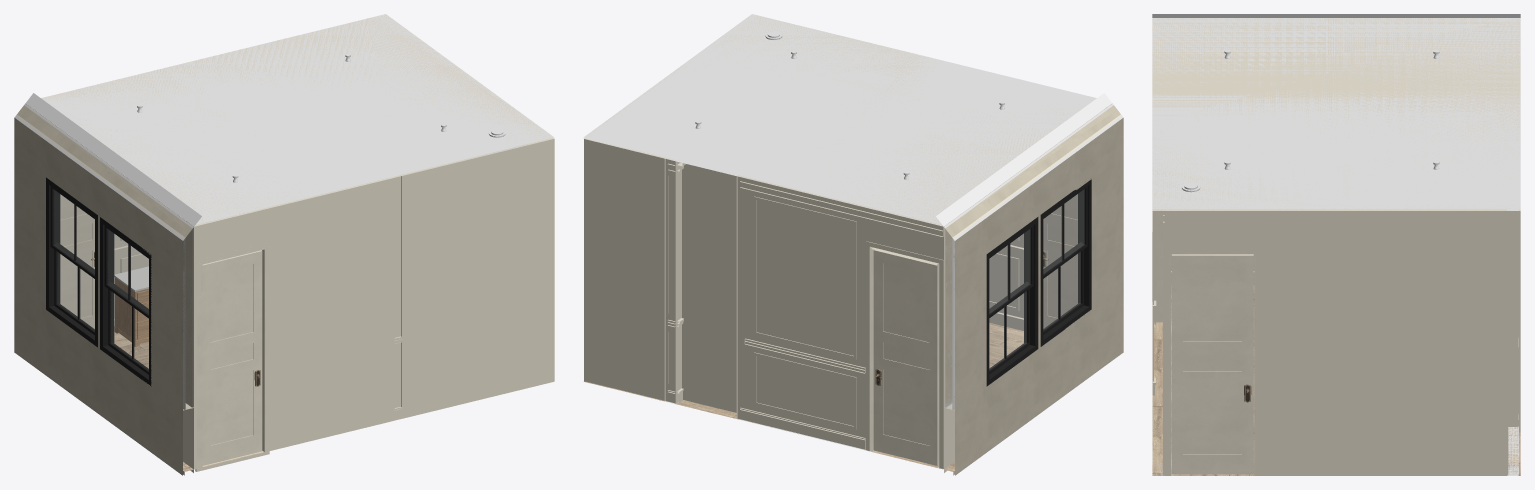
Rendered from green-bedroom-b9fc45366bc6.glb.
3 renders of one model, left to right at view 1: azimuth 30°, elevation 25°; view 2: azimuth 150°, elevation 25°; view 3: azimuth 270°, elevation 25°, orthographic. The views are drawn at different scales.
Visible parts, largest first — view 1: green-bedroom-eb02897c2e79e2b1, green-bedroom-9d91b47435c6fb33, green-bedroom-312b4ac1be39223d, green-bedroom-e8793759323e04f0, green-bedroom-7406100458e293ce, green-bedroom-33ee0b466567e5f0, green-bedroom-eea30be35ce76d8a, green-bedroom-b27266f3159d5f34, green-bedroom-5e646f76b0244fe8, green-bedroom-39b94aca90fa4b53, green-bedroom-3a4d9d62ecd7be1c, green-bedroom-442e5a19ed849720 (+5 smaller); view 2: green-bedroom-9d91b47435c6fb33, green-bedroom-b6ab44e8ab2b63f4, green-bedroom-8d8280a2b3ef8b4c, green-bedroom-312b4ac1be39223d, green-bedroom-689020e0fc226264, green-bedroom-5e646f76b0244fe8, green-bedroom-33ee0b466567e5f0, green-bedroom-e8793759323e04f0, green-bedroom-eea30be35ce76d8a, green-bedroom-b27266f3159d5f34, green-bedroom-7406100458e293ce, green-bedroom-4fe5579be934d30a (+9 smaller); view 3: green-bedroom-64efeecf845bccca, green-bedroom-9d91b47435c6fb33, green-bedroom-e8793759323e04f0, green-bedroom-b50904fb6ee0544e, green-bedroom-2575515a05775d9e, green-bedroom-689020e0fc226264, green-bedroom-34287d1b870c745c, green-bedroom-eb02897c2e79e2b1, green-bedroom-442e5a19ed849720, green-bedroom-8d8280a2b3ef8b4c, green-bedroom-4fe5579be934d30a.
Boxes of the visible parts, bbox=[...] form: green-bedroom-eb02897c2e79e2b1: bbox=[188, 139, 554, 469]; green-bedroom-9d91b47435c6fb33: bbox=[25, 14, 554, 226]; green-bedroom-312b4ac1be39223d: bbox=[14, 116, 184, 409]; green-bedroom-e8793759323e04f0: bbox=[27, 14, 552, 224]; green-bedroom-7406100458e293ce: bbox=[202, 250, 262, 465]; green-bedroom-33ee0b466567e5f0: bbox=[14, 287, 193, 475]; green-bedroom-eea30be35ce76d8a: bbox=[46, 177, 97, 347]; green-bedroom-b27266f3159d5f34: bbox=[100, 217, 151, 386]; green-bedroom-5e646f76b0244fe8: bbox=[60, 194, 94, 328]; green-bedroom-39b94aca90fa4b53: bbox=[17, 105, 192, 409]; green-bedroom-3a4d9d62ecd7be1c: bbox=[24, 103, 193, 407]; green-bedroom-442e5a19ed849720: bbox=[201, 247, 266, 467]; green-bedroom-9d91b47435c6fb33: bbox=[583, 14, 1112, 226]; green-bedroom-b6ab44e8ab2b63f4: bbox=[736, 176, 949, 469]; green-bedroom-8d8280a2b3ef8b4c: bbox=[584, 138, 681, 403]; green-bedroom-312b4ac1be39223d: bbox=[953, 116, 1123, 409]; green-bedroom-689020e0fc226264: bbox=[676, 160, 737, 418]; green-bedroom-5e646f76b0244fe8: bbox=[873, 250, 937, 465]; green-bedroom-33ee0b466567e5f0: bbox=[944, 287, 1123, 475]; green-bedroom-e8793759323e04f0: bbox=[585, 15, 1110, 224]; green-bedroom-eea30be35ce76d8a: bbox=[986, 217, 1038, 386]; green-bedroom-b27266f3159d5f34: bbox=[1040, 179, 1091, 346]; green-bedroom-7406100458e293ce: bbox=[1043, 194, 1077, 328]; green-bedroom-4fe5579be934d30a: bbox=[664, 158, 676, 403]; green-bedroom-64efeecf845bccca: bbox=[1164, 209, 1508, 475]; green-bedroom-9d91b47435c6fb33: bbox=[1152, 18, 1520, 210]; green-bedroom-e8793759323e04f0: bbox=[1152, 14, 1520, 209]; green-bedroom-b50904fb6ee0544e: bbox=[1171, 254, 1253, 474]; green-bedroom-2575515a05775d9e: bbox=[1152, 285, 1520, 475]; green-bedroom-689020e0fc226264: bbox=[1508, 211, 1518, 426]; green-bedroom-34287d1b870c745c: bbox=[1169, 252, 1256, 475]; green-bedroom-eb02897c2e79e2b1: bbox=[1152, 209, 1164, 475]; green-bedroom-442e5a19ed849720: bbox=[1156, 211, 1162, 322]; green-bedroom-8d8280a2b3ef8b4c: bbox=[1507, 209, 1518, 475]; green-bedroom-4fe5579be934d30a: bbox=[1519, 211, 1520, 432].
Size of the model in its own units: 4.64 by 3.04 by 3.65.
Materials: 33 (8 with a texture image).
